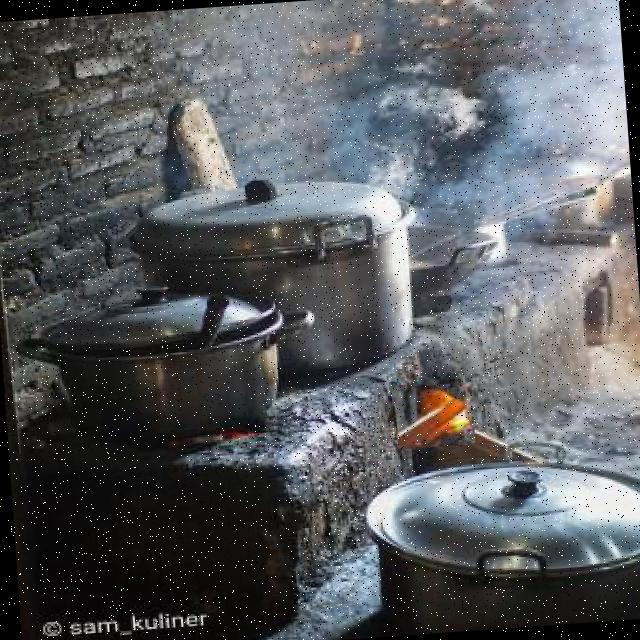fire: (394, 382, 475, 449)
